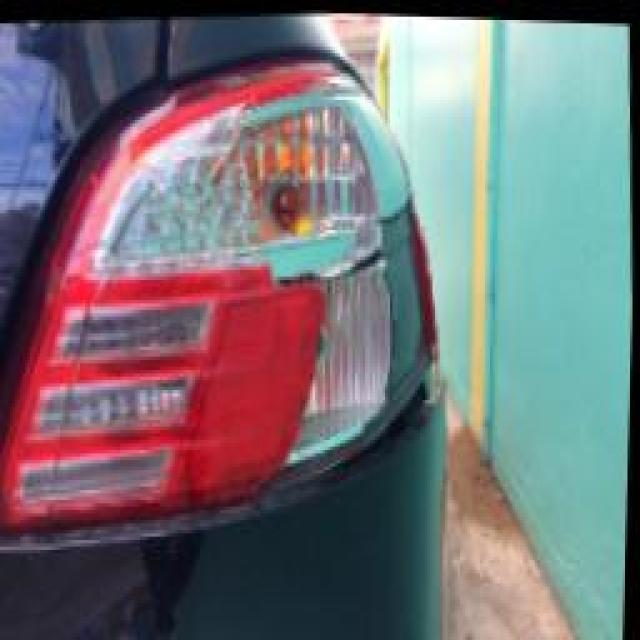Light: (0, 53, 472, 508)
